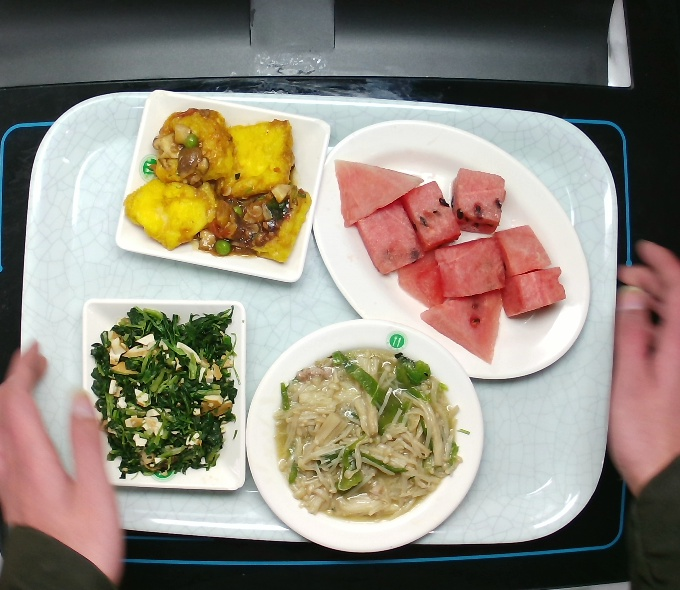wcq-CuiPiDouFu: (119, 104, 315, 268)
wcq-JinZhenGu: (262, 337, 477, 537)
wcq-MaLanTouChaoDouGan: (86, 302, 255, 484)
wcq-XiGua: (328, 144, 571, 369)
